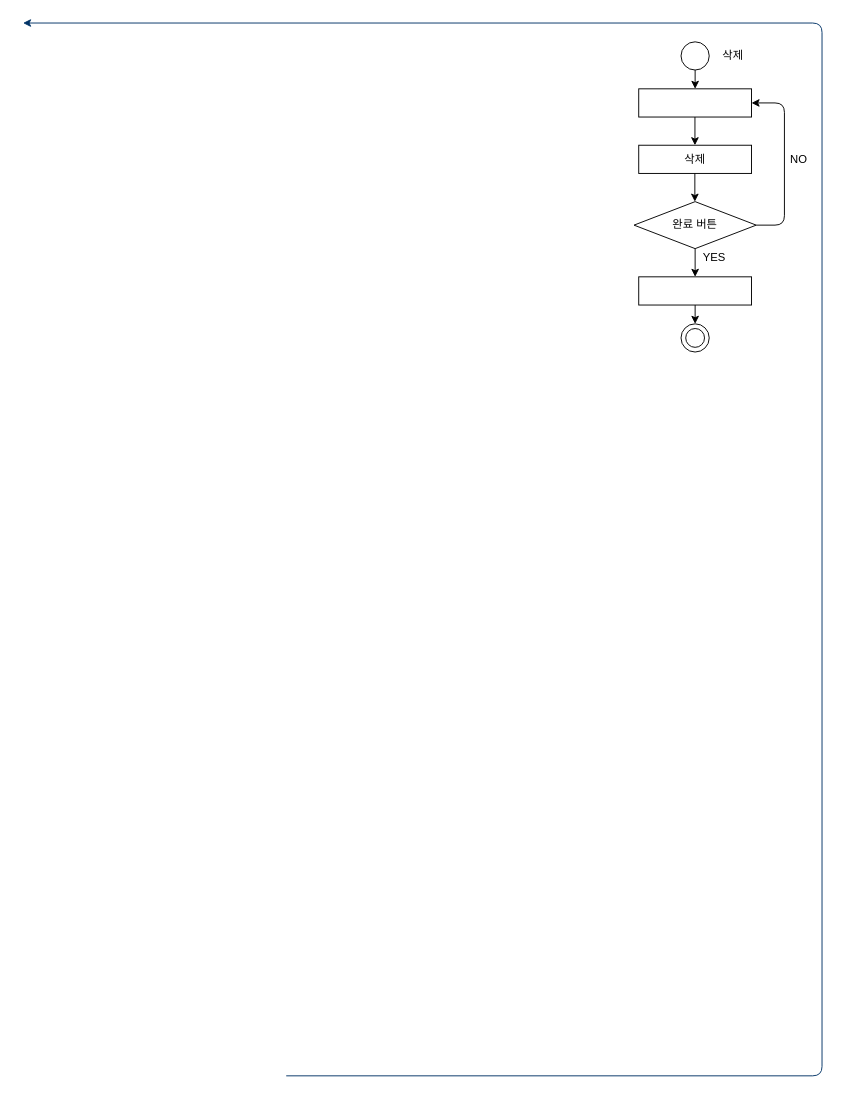
Image size: 846x1100. Some labels were removed from this diagram. Each missing label, with the centre of its shape:
"삭제 완료" belongs at (695,290).
"스팸글/ 리뷰/ 삭제글" belongs at (695,102).
